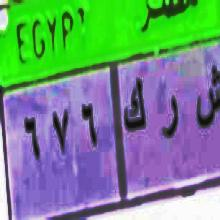6: (78, 103, 101, 149), (23, 111, 41, 168)
7: (50, 104, 70, 170)
kaaf: (123, 75, 148, 138)
raa: (159, 90, 180, 144)
sheen: (192, 64, 220, 132)
